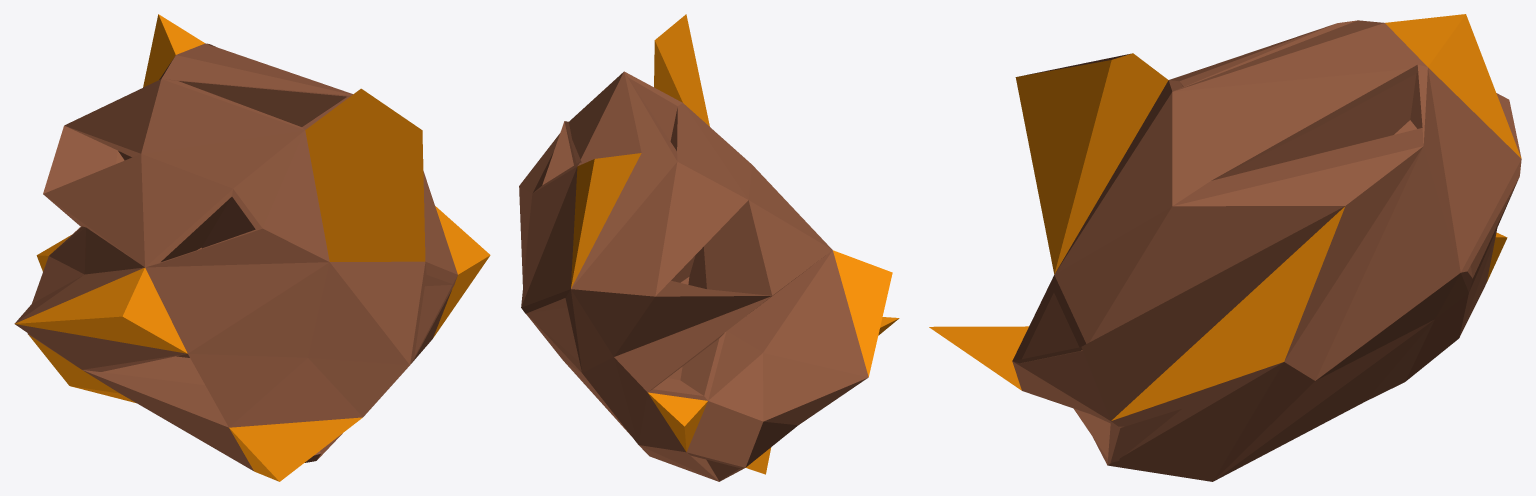
Rendered from AsteroidCristall3.glb.
3 renders of one model, left to right at view 1: azimuth 30°, elevation 25°; view 2: azimuth 150°, elevation 25°; view 3: azimuth 270°, elevation 25°, orthographic. The views are drawn at different scales.
Parts seen in each view (by area): view 1: AsteroidCristall3; view 2: AsteroidCristall3; view 3: AsteroidCristall3.
Boxes of the visible parts, x1,y1,x2,y2 form: AsteroidCristall3: (14, 14, 490, 481); AsteroidCristall3: (519, 14, 899, 481); AsteroidCristall3: (929, 14, 1521, 481).
Size of the model in its own units: 8.76 by 7.58 by 9.13.
1 material, 1 textured.
